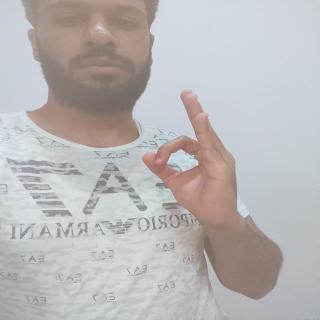Space: (145, 73, 257, 232)
